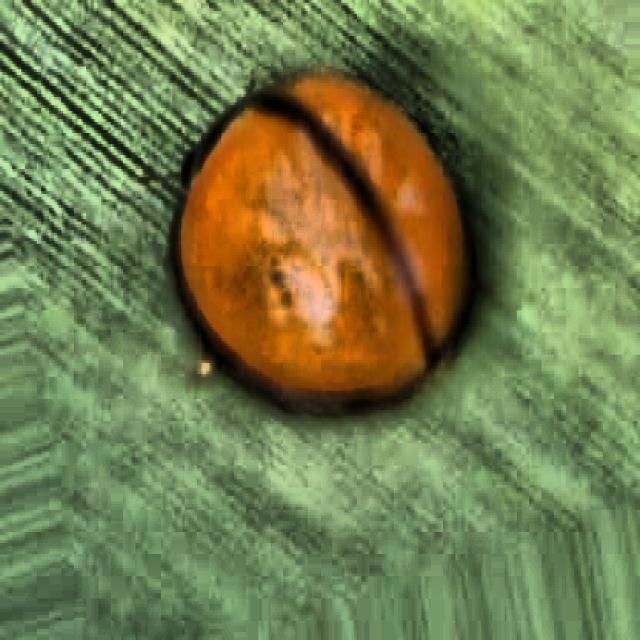Ladybug: (101, 6, 538, 472)
